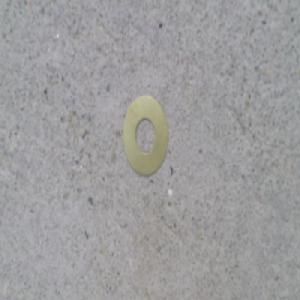Washer: (123, 102, 170, 183)
